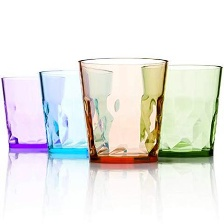glass: (76, 47, 172, 167), (138, 54, 224, 166), (33, 61, 117, 164), (0, 69, 67, 159)
